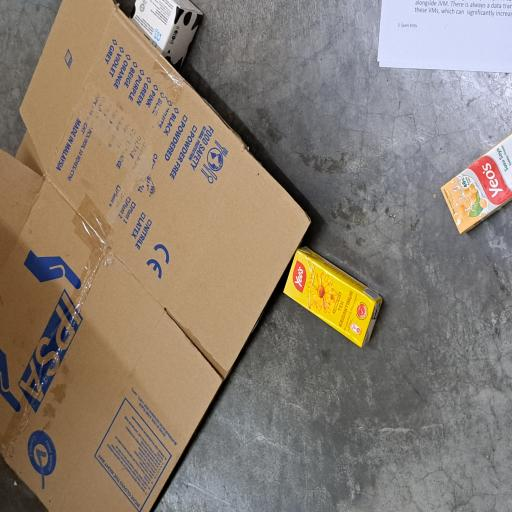cardboard: (0, 0, 384, 421)
drink carton: (125, 374, 198, 512), (338, 155, 384, 278)
